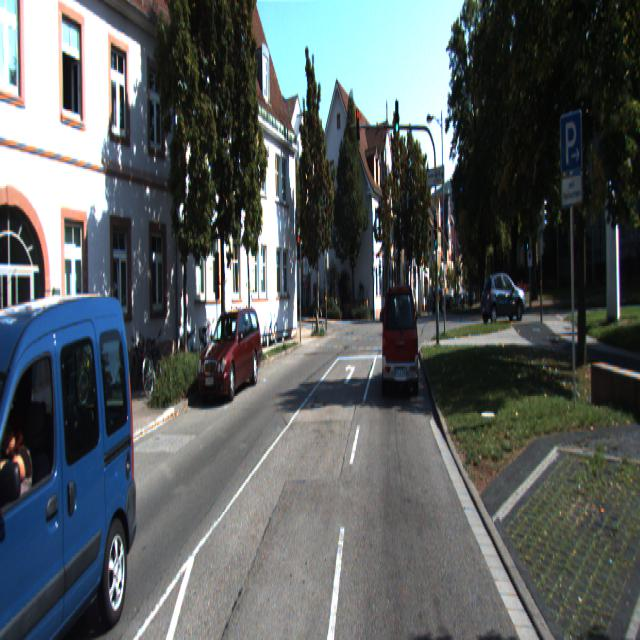Car: (0, 290, 148, 639), (0, 325, 77, 556), (197, 310, 263, 404), (382, 287, 419, 399), (480, 270, 526, 324)
